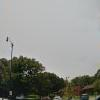Tree: (5, 46, 67, 100)
